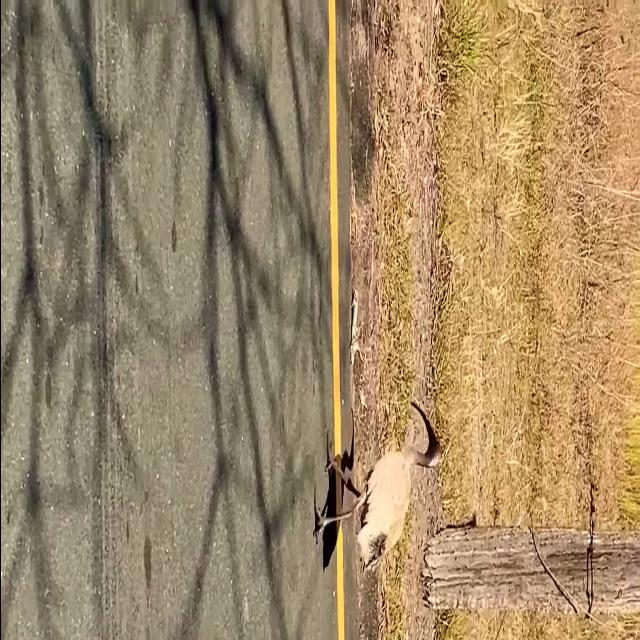Birds-Ibis: (308, 394, 446, 578)
